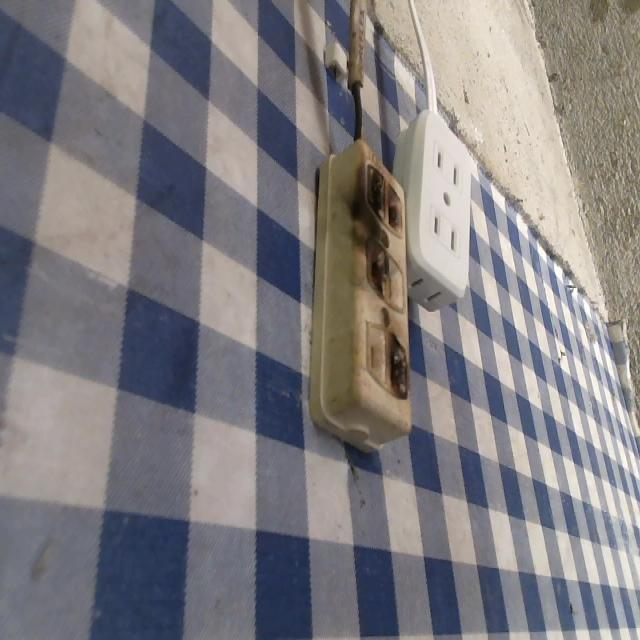-: (357, 150, 413, 230), (382, 324, 417, 409), (362, 236, 398, 300)
